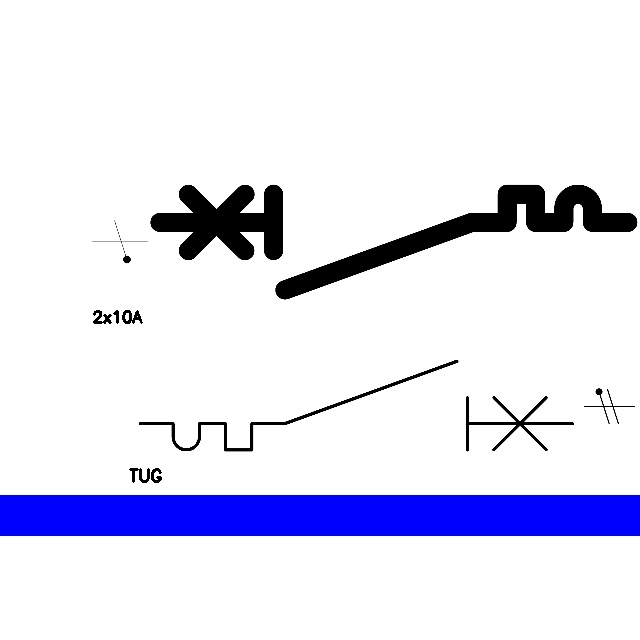interruptor_termomagnetico: (147, 182, 639, 302), (129, 350, 583, 461)
